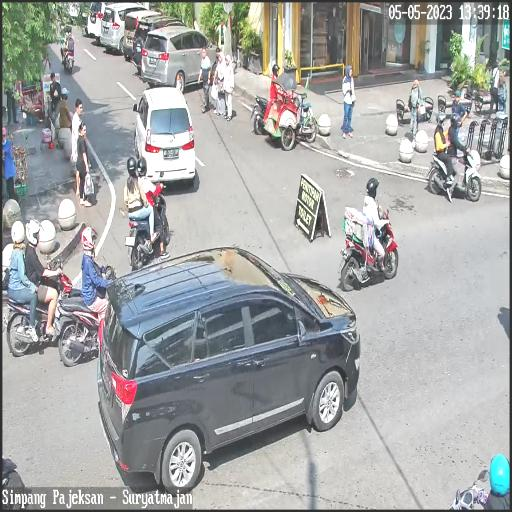mobil: (91, 238, 361, 490), (133, 88, 195, 186), (142, 25, 220, 91)
motor: (52, 262, 120, 366), (6, 275, 79, 359), (335, 207, 399, 289), (424, 124, 486, 204), (122, 183, 172, 267)
